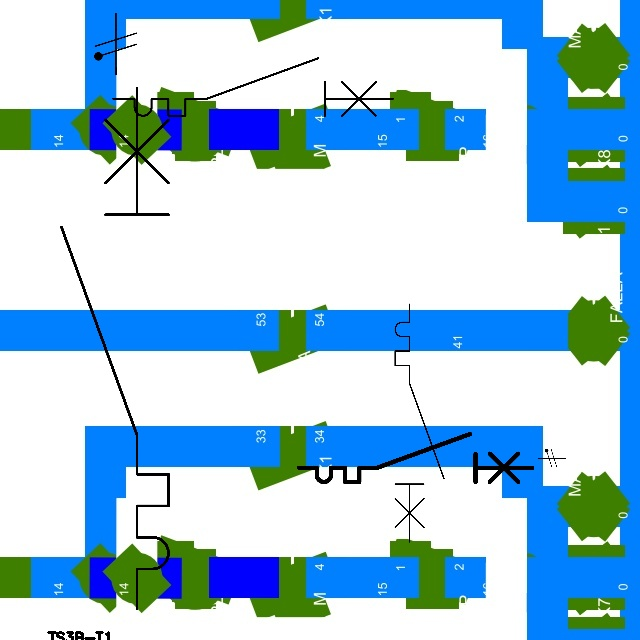interruptor_termomagnetico: (48, 74, 182, 621), (106, 51, 400, 123), (389, 298, 450, 548), (293, 428, 538, 488)
